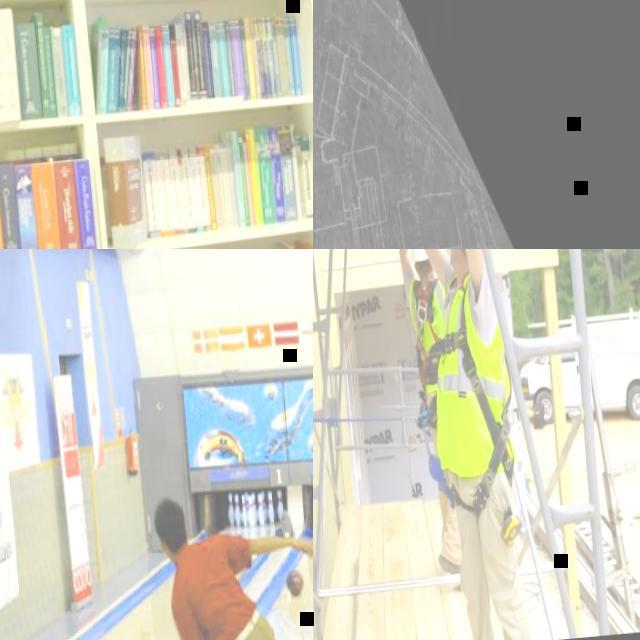helmet: (408, 249, 431, 262)
vest: (422, 268, 516, 480), (406, 270, 454, 392)
